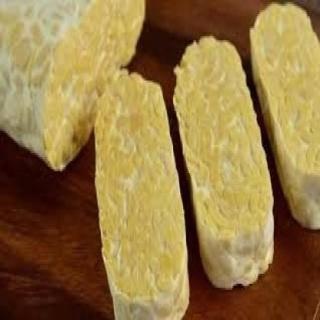Tempe: (91, 67, 195, 320)
